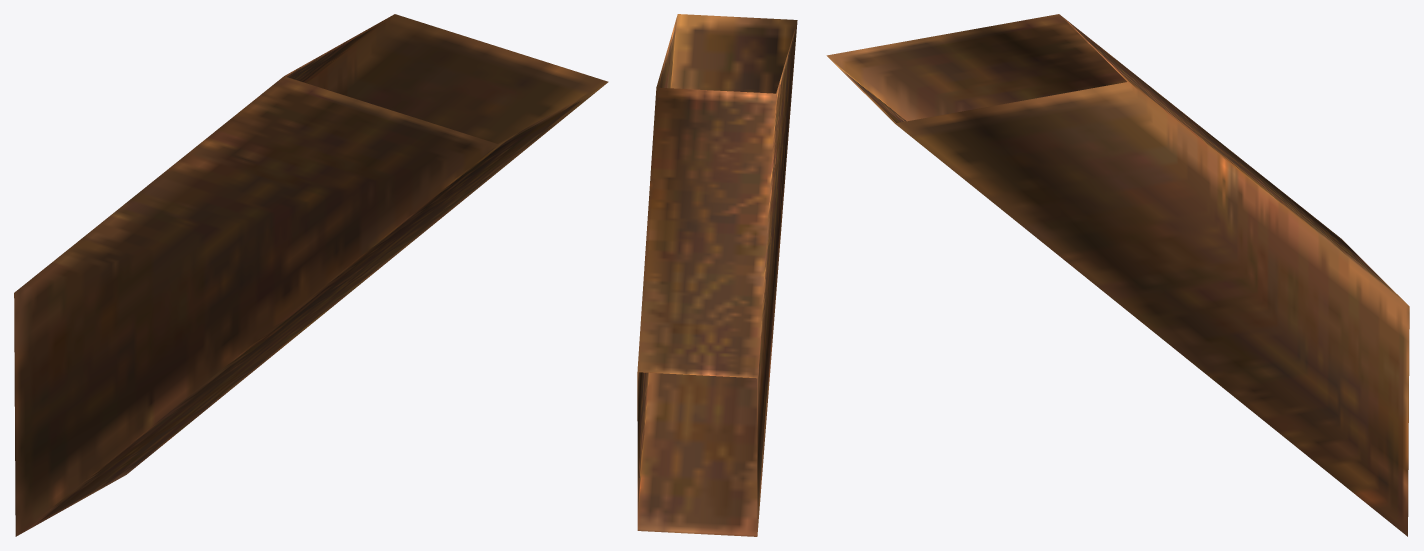
Rendered from SWORDLIGHT20_JAILBRACE99.fbx.
3 renders of one model, left to right at view 1: azimuth 30°, elevation 25°; view 2: azimuth 150°, elevation 25°; view 3: azimuth 270°, elevation 25°, orthographic. The views are drawn at different scales.
Visible parts, largest first — view 1: SWORDLIGHT20_JAILBRACE99; view 2: SWORDLIGHT20_JAILBRACE99; view 3: SWORDLIGHT20_JAILBRACE99.
Part boxes in pixels (x1,y1,x2,y2): SWORDLIGHT20_JAILBRACE99: [14, 14, 608, 536]; SWORDLIGHT20_JAILBRACE99: [637, 14, 797, 536]; SWORDLIGHT20_JAILBRACE99: [826, 14, 1409, 536].
Bounding box in the file's own units: 5301 × 7647 × 7916.
1 material, 1 textured.
